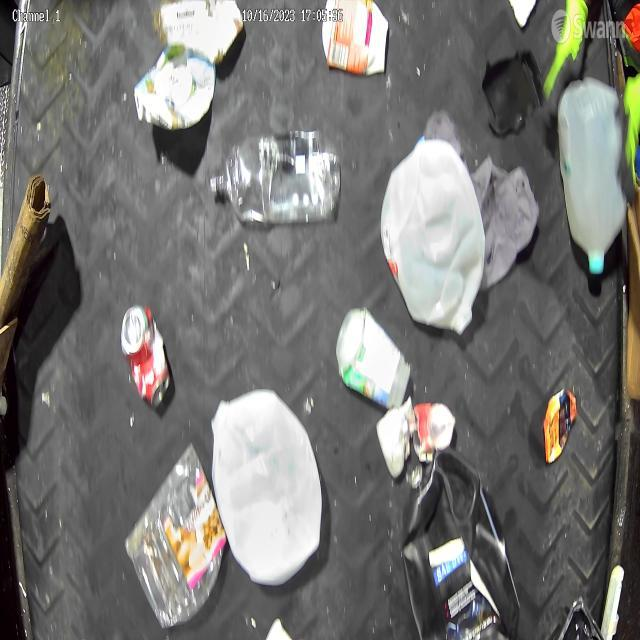can: (119, 304, 171, 404)
milk_jug: (211, 390, 325, 584), (380, 130, 488, 328), (560, 79, 624, 272)
non_white_jug: (398, 441, 518, 640)
plastic_bottle: (211, 130, 340, 233)
